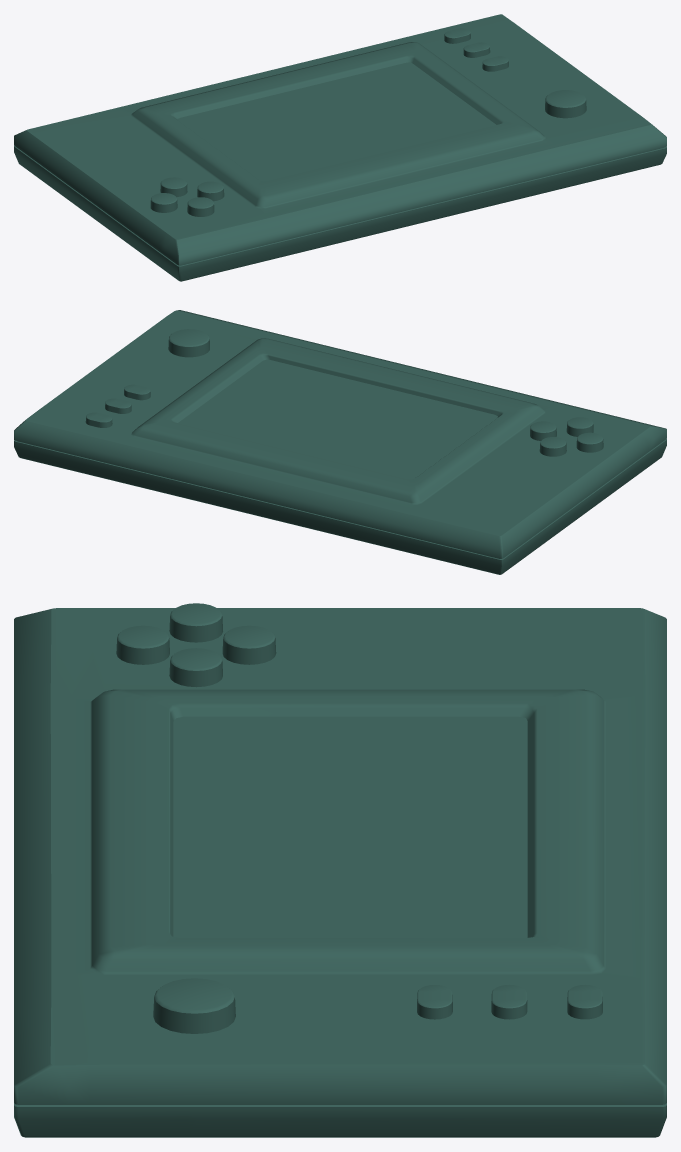
The model's file is EN_P_Dank.fbx.
3 views of the same model, one above another, from view 1: azimuth 30°, elevation 25°; view 2: azimuth 150°, elevation 25°; view 3: azimuth 270°, elevation 25° (orthographic). The views are drawn at different scales.
Visible parts, largest first — view 1: EN_P_Dank; view 2: EN_P_Dank; view 3: EN_P_Dank.
Part boxes in pixels (left/top/right/bottom): EN_P_Dank: left=14, top=14, right=666, bottom=281; EN_P_Dank: left=14, top=310, right=666, bottom=574; EN_P_Dank: left=14, top=603, right=666, bottom=1137.
Size of the model in its own units: 15.34 by 1.42 by 9.
